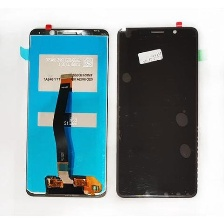phone: (23, 24, 111, 200), (113, 24, 200, 198)
